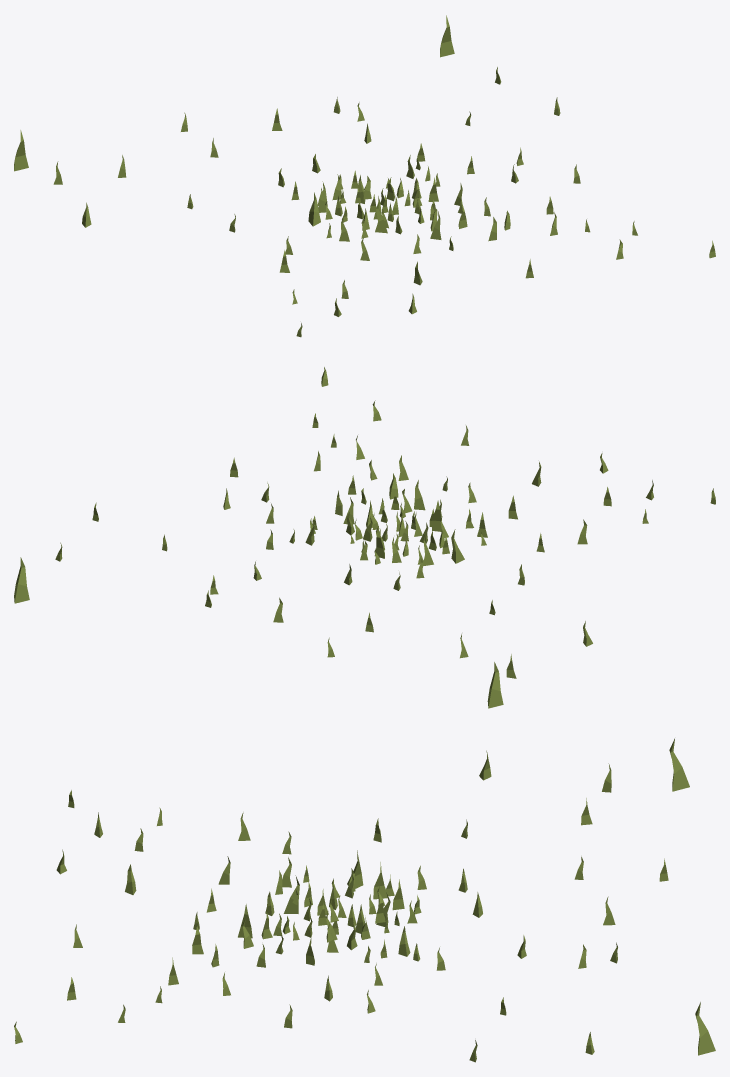
The model's file is FewMiddleLowGrass.fbx.
The picture shows the model from 3 angles, top to bottom: view 1: azimuth 30°, elevation 25°; view 2: azimuth 150°, elevation 25°; view 3: azimuth 270°, elevation 25°; orthographic projection. The views are drawn at different scales.
Visible parts, largest first — view 1: Grass; view 2: Grass; view 3: Grass.
Part boxes in pixels (box(x1,y1,x2,y2)): Grass: box(14, 15, 715, 337); Grass: box(14, 367, 715, 708); Grass: box(14, 738, 715, 1062).
Size of the model in its own units: 447 by 37.97 by 463.
